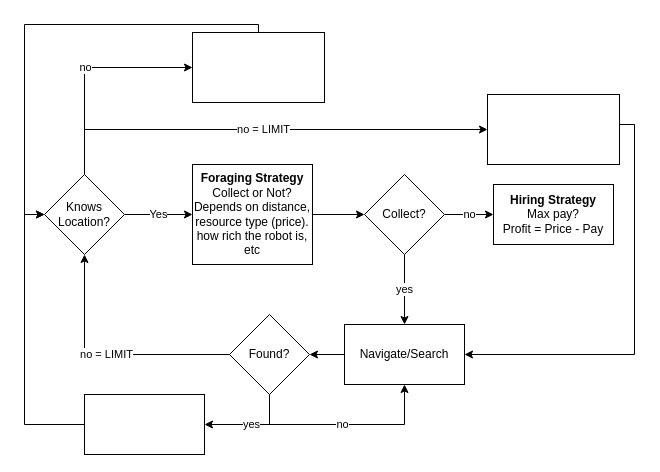
Image size: 660x472. Some labels were removed from this diagram. Each missing label, with the centre of its shape:
"Employment Strategy Profit = Pay - Cost" belongs at (553,129).
"Exploration Strategy Random-walk" belongs at (258,67).
"Navigate to Market Sell Resource" belongs at (144,424).
